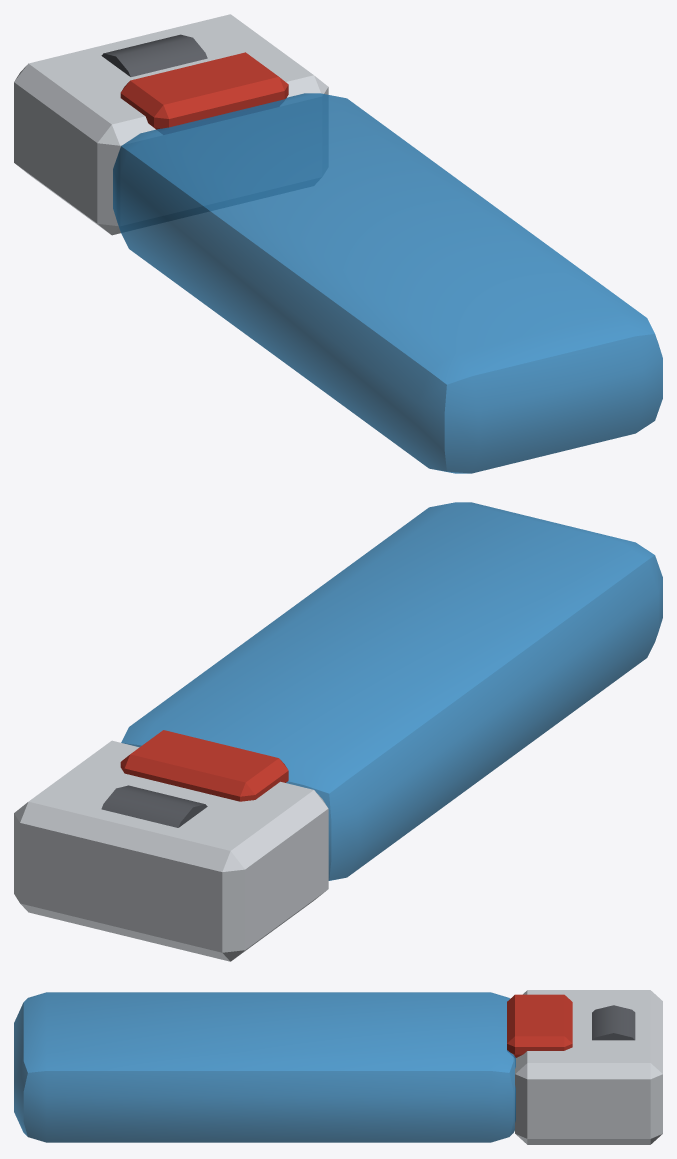
Rendered from lighter.glb.
3 views of the same model, one above another, from view 1: azimuth 30°, elevation 25°; view 2: azimuth 150°, elevation 25°; view 3: azimuth 270°, elevation 25° (orthographic). The views are drawn at different scales.
Visible parts, largest first — view 1: lighter; view 2: lighter; view 3: lighter.
Boxes of the visible parts, box(x1,y1,x2,y2) form: lighter: box(14, 14, 662, 473); lighter: box(14, 502, 662, 961); lighter: box(14, 990, 662, 1144).
Bounding box in the file's own units: 0.0231 × 0.012 × 0.0729.
